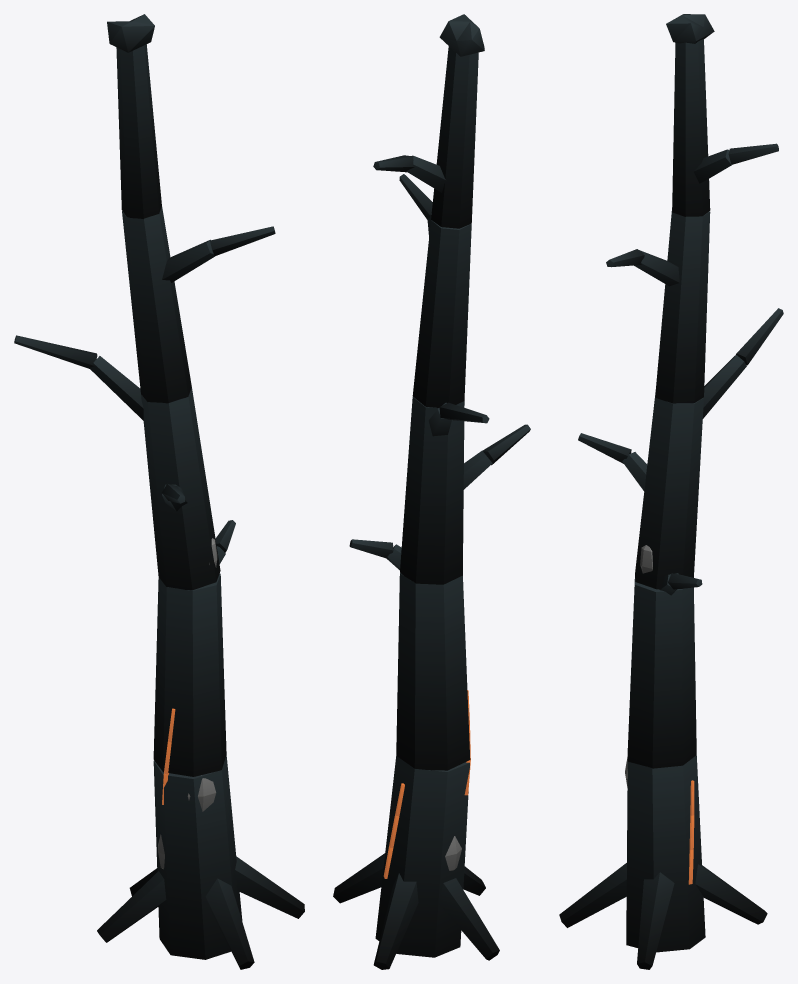
File: charred_tree_tall.glb
The picture shows the model from 3 angles, left to right: view 1: azimuth 30°, elevation 25°; view 2: azimuth 150°, elevation 25°; view 3: azimuth 270°, elevation 25°; orthographic projection. The views are drawn at different scales.
Visible parts, largest first — view 1: charred_tree_tall; view 2: charred_tree_tall; view 3: charred_tree_tall.
Part boxes in pixels (bbox=[...]): charred_tree_tall: bbox=[14, 14, 304, 969]; charred_tree_tall: bbox=[333, 14, 530, 969]; charred_tree_tall: bbox=[559, 14, 783, 969].
Size of the model in its own units: 2.48 by 9.97 by 2.26.
Materials: 2 (2 with a texture image).
